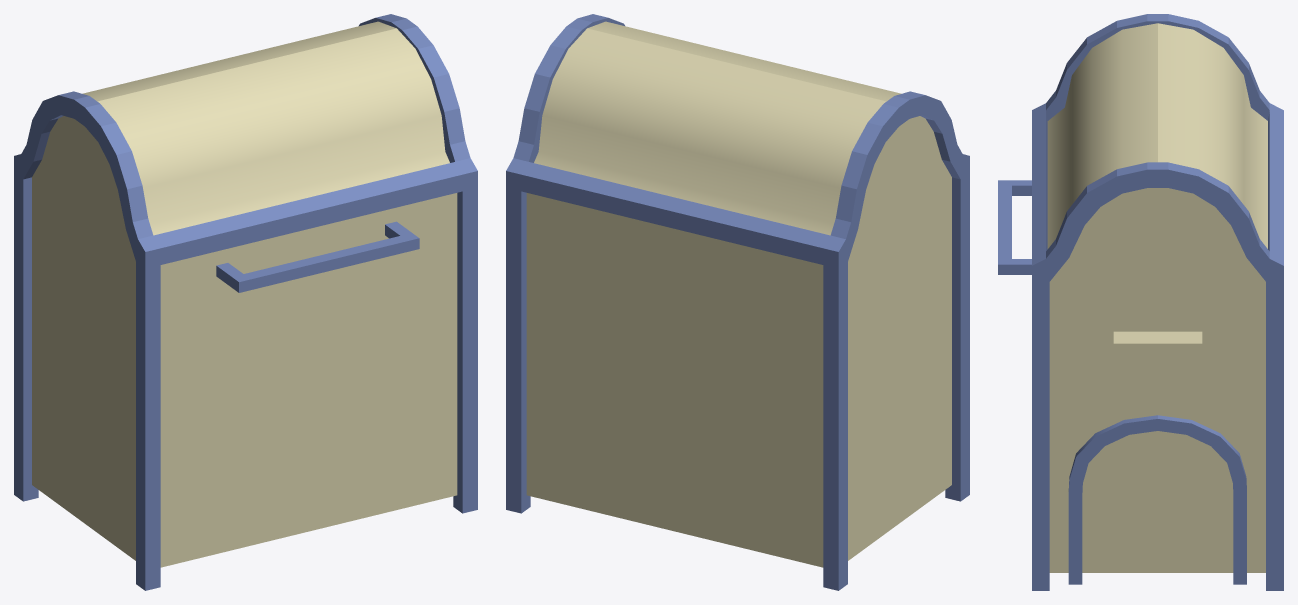
File: Bad House.fbx
3 renders of one model, left to right at view 1: azimuth 30°, elevation 25°; view 2: azimuth 150°, elevation 25°; view 3: azimuth 270°, elevation 25°, orthographic. The views are drawn at different scales.
Parts seen in each view (by area): view 1: pCube3; view 2: pCube3; view 3: pCube3.
Boxes of the visible parts, bbox=[...] form: pCube3: bbox=[14, 14, 477, 590]; pCube3: bbox=[506, 14, 969, 590]; pCube3: bbox=[998, 14, 1283, 590].
Bounding box in the file's own units: 1272 × 1527 × 939.
